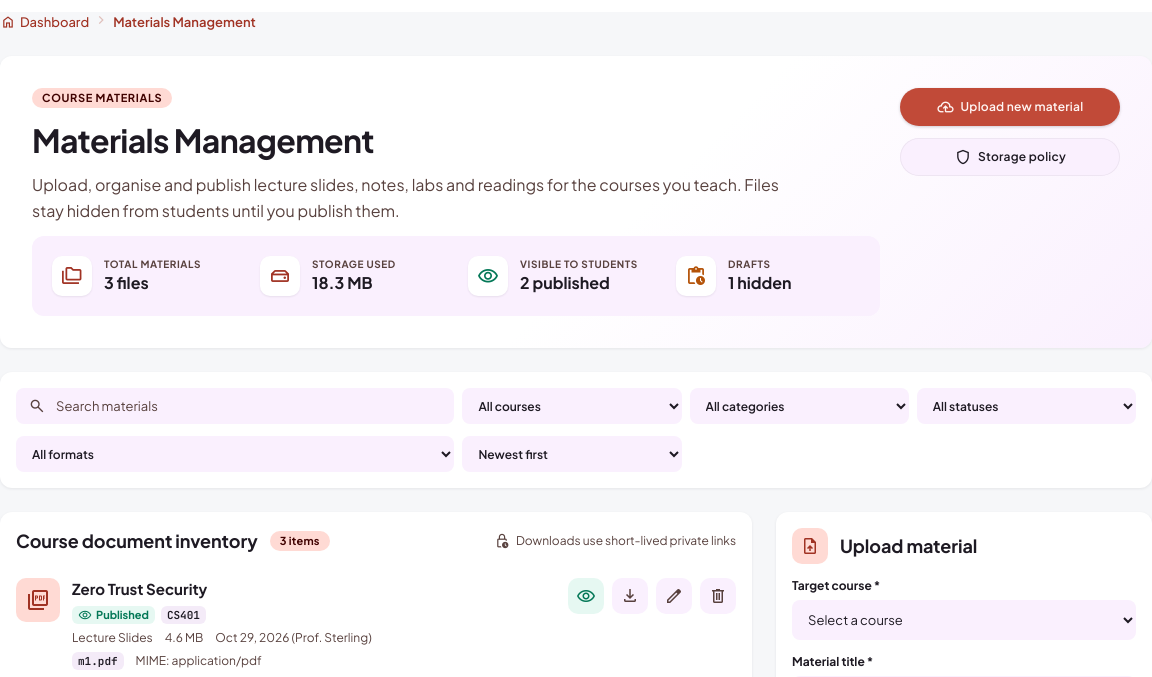
Test: inventory › the storage policy opens and closes
Check: the heading "Zero Trust Security" is shown, box top-left (72, 579), bottom-right (207, 598)
Click the button "Storage policy" at coordinates (1010, 157), box top-left (900, 138), bottom-right (1120, 176)
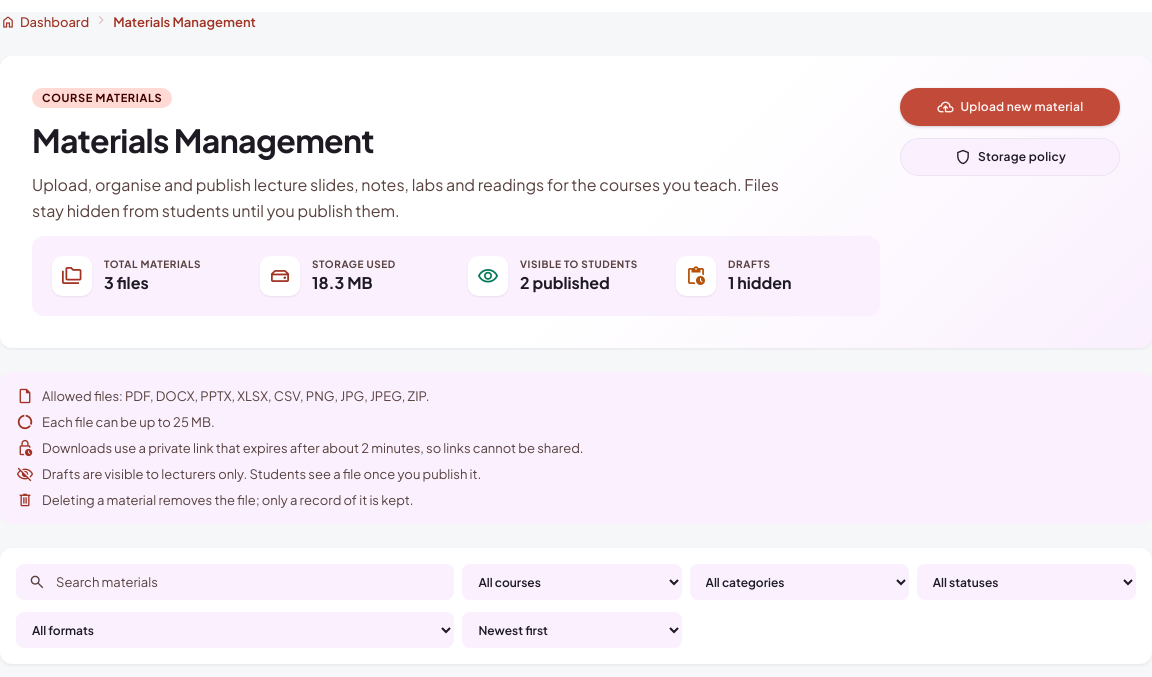
Check: the text "Each file can be up to 25 MB." is shown, box top-left (42, 412), bottom-right (215, 432)
Click the button "Storage policy" at coordinates (1010, 157), box top-left (900, 138), bottom-right (1120, 176)
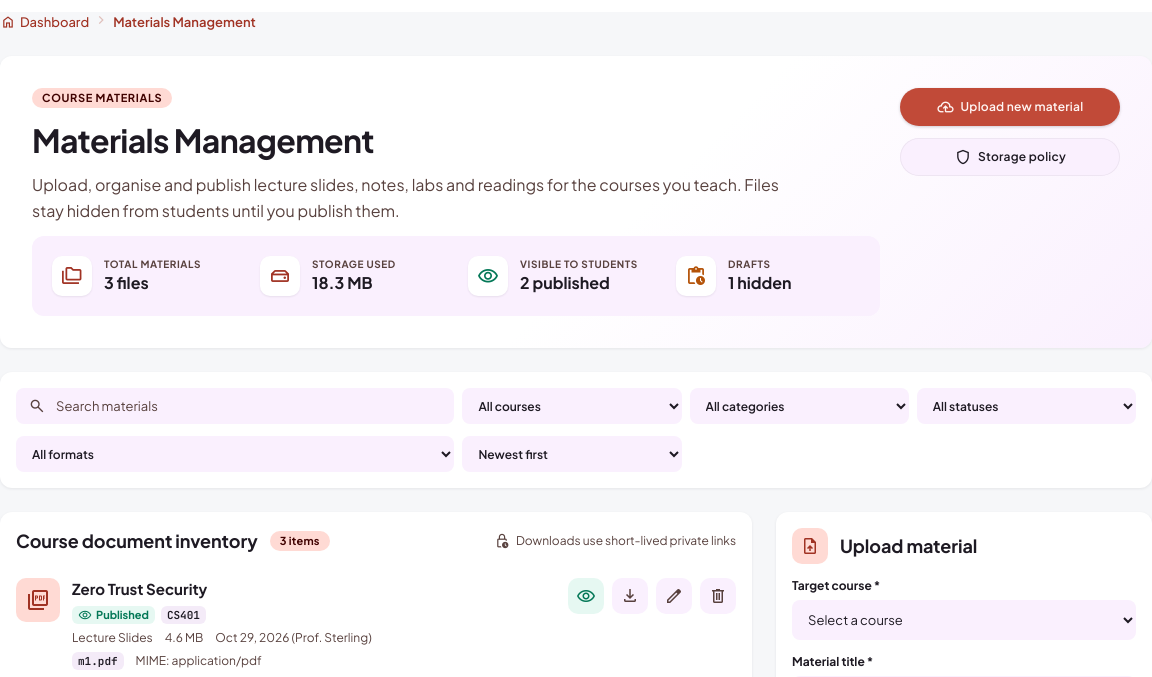
Check: the text "Each file can be up to 25 MB." is gone
